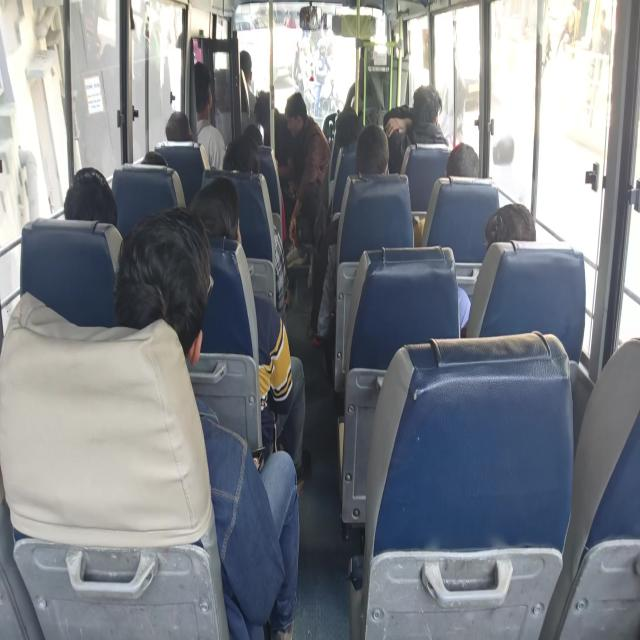person: (113, 206, 300, 638), (188, 176, 309, 492), (309, 124, 389, 346), (222, 135, 290, 322), (457, 202, 536, 336), (283, 91, 331, 249), (412, 142, 479, 246), (384, 84, 448, 174), (193, 61, 226, 170), (63, 166, 118, 228), (484, 202, 536, 249), (446, 142, 479, 178), (239, 49, 256, 116), (165, 111, 193, 141)
